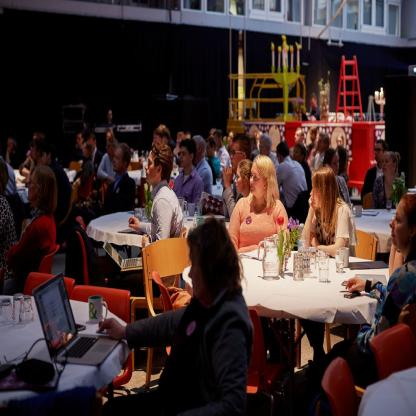board: (32, 278, 125, 368)
